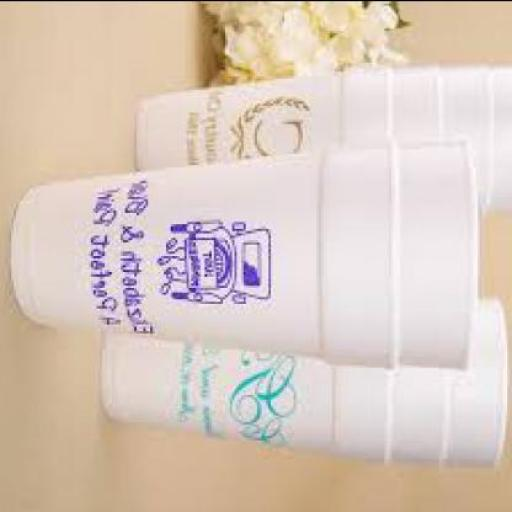biodegradable: (202, 3, 412, 86)
paper: (14, 139, 482, 373), (14, 166, 400, 371), (102, 294, 510, 470), (132, 65, 510, 219), (105, 319, 396, 464), (139, 78, 403, 214)
